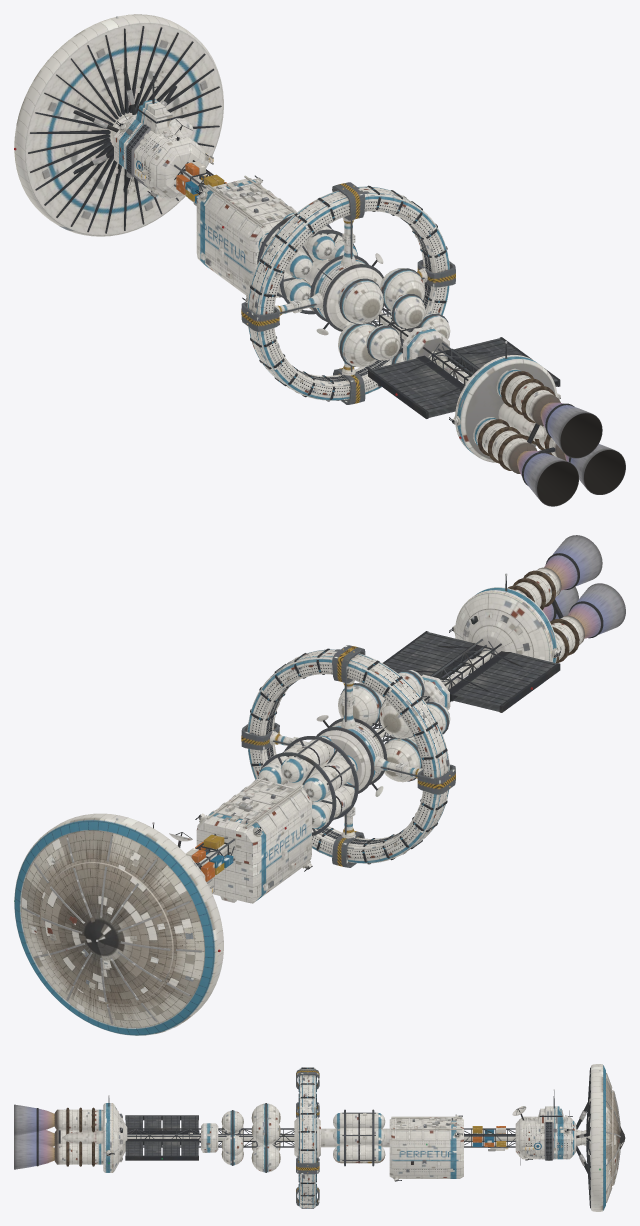
Rendered from perpetua.glb.
3 renders of one model, top to bottom at view 1: azimuth 30°, elevation 25°; view 2: azimuth 150°, elevation 25°; view 3: azimuth 270°, elevation 25°, orthographic. The views are drawn at different scales.
Visible parts, largest first — view 1: hull, ring; view 2: hull, ring; view 3: hull, ring.
Part boxes in pixels (x1=…): hull: x1=14, y1=14, x2=625, y2=506; ring: x1=247, y1=185, x2=449, y2=401; hull: x1=14, y1=535, x2=625, y2=1035; ring: x1=247, y1=648, x2=449, y2=864; hull: x1=14, y1=1064, x2=625, y2=1211; ring: x1=298, y1=1067, x2=316, y2=1208.
Size of the model in its own units: 350 by 348 by 1428.
Materials: 4 (2 with a texture image).
